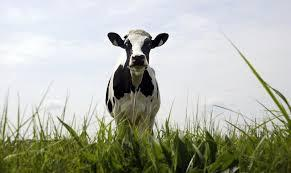cow: (106, 31, 169, 143)
